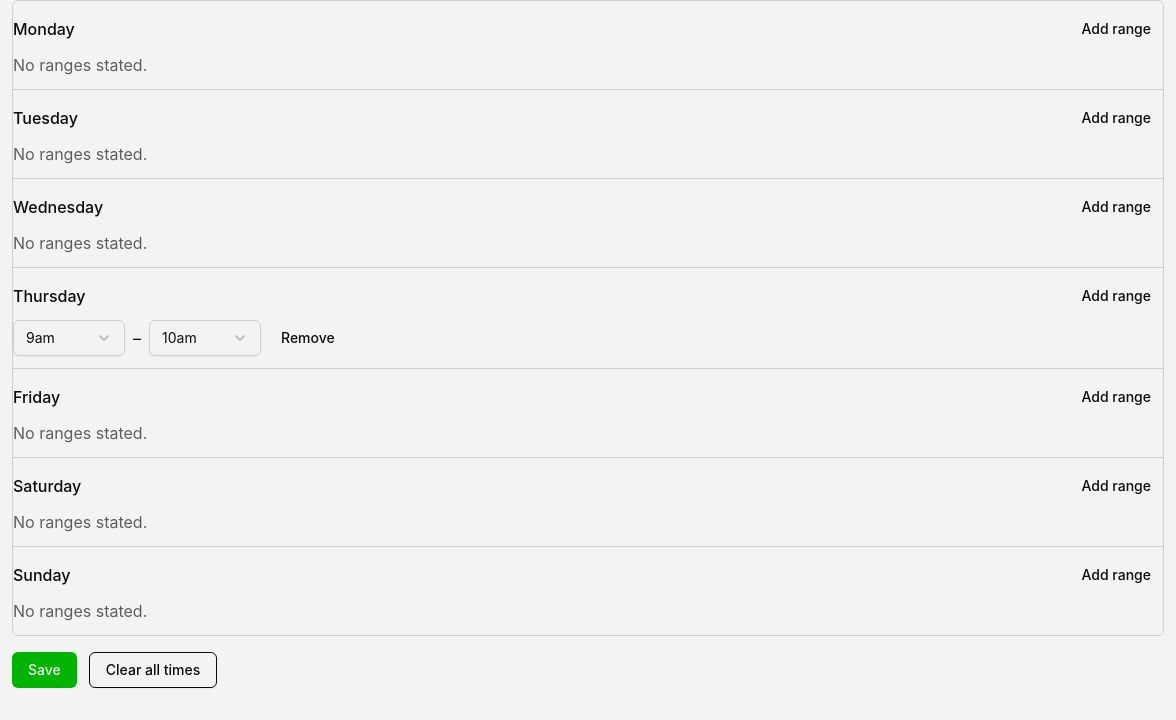
Test: AvailabilityWeekEditor › clears the week and reflects the cleared state
Expected: the text "Thursday" is shown, [13,284,85,308]
Click the button "Clear all times" at (153, 670), box [89,652,217,688]
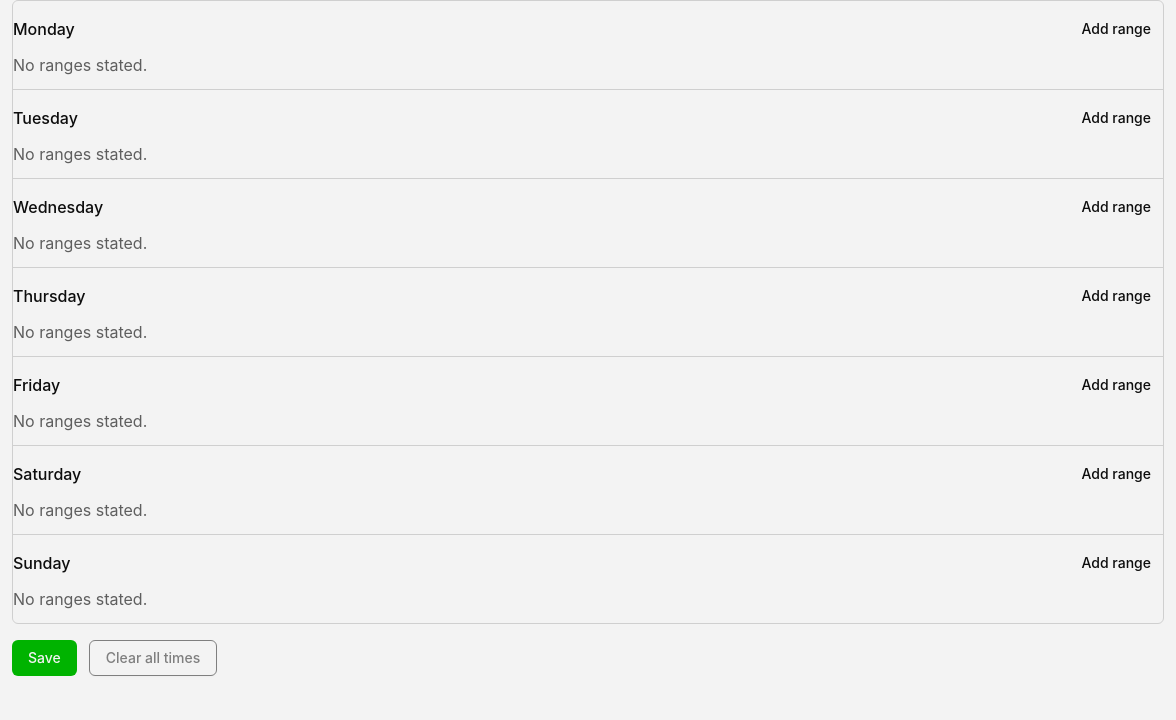
Expected: the text "No ranges stated." is shown 7 times
